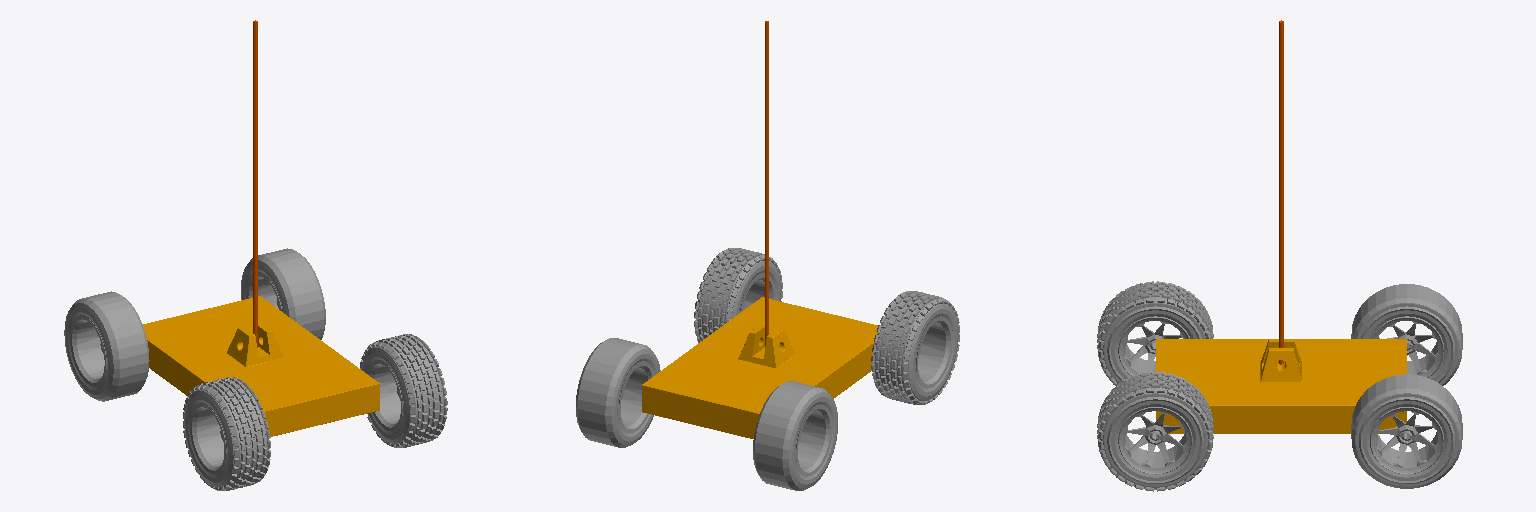
robot.urdf — balancing_rover:
<?xml version="1.0" encoding="UTF-8"?>
<robot name="balancing_rover">


  <!-- =================================================================== -->
  <!--                        MAIN BODY FRAME                              -->
  <!-- =================================================================== -->

  <link name="rover_frame">
    <inertial>
        <mass value="0.3"/>
        <inertia ixx="0.40625" ixy="0" ixz="0" iyy="0.1625" iyz="0" izz="0.55625" />
    </inertial>

    <collision name="rover_frame_collision">
      <geometry>
        <mesh filename="package://balancing_rover_description/meshes/frame_collision.stl"/>
      </geometry>
    </collision>

    <visual name="rover_frame_visual">
      <geometry>
        <mesh filename="package://balancing_rover_description/meshes/frame.dae"/>
      </geometry>
    </visual>
  </link>

  <!-- =================================================================== -->
  <!--                              WHEELS                                 -->
  <!-- =================================================================== -->

  <!-- Front Right Wheel -->

  <link name="wheel_front_right">
    <inertial>
        <mass value="0.1"/>
        <inertia ixx="0.00652746" ixy="0" ixz="0" iyy="0.00652746" iyz="0" izz="0.01083451" />
    </inertial>
    <collision name="wheel_front_right_collision">
      <geometry>
        <mesh filename="package://balancing_rover_description/meshes/wheel_collision.stl"/>
      </geometry>
    </collision>
    <visual name="wheel_front_right_visual">
      <geometry>
        <mesh filename="package://balancing_rover_description/meshes/wheel_slick.dae"/>
      </geometry>
    </visual>
  </link>
  <joint type="continuous" name="wheel_front_right_hinge">
      <origin xyz="0.85 1 0"/>
      <child link="wheel_front_right"/>
      <parent link="rover_frame"/>
      <axis xyz="1 0 0"/>
  </joint>

  <!-- Front Left Wheel -->

  <link name="wheel_front_left">
    <inertial>
        <mass value="0.1"/>
        <inertia ixx="0.00652746" ixy="0" ixz="0" iyy="0.00652746" iyz="0" izz="0.01083451" />
    </inertial>
    <collision name="wheel_front_left_collision">
      <geometry>
        <mesh filename="package://balancing_rover_description/meshes/wheel_collision.stl"/>
      </geometry>
    </collision>
    <visual name="wheel_front_left_visual">
      <geometry>
        <mesh filename="package://balancing_rover_description/meshes/wheel_slick.dae"/>
      </geometry>
    </visual>
  </link>
  <joint type="continuous" name="wheel_front_left_hinge">
    <origin xyz="-0.85 1 0"/>
    <child link="wheel_front_left"/>
    <parent link="rover_frame"/>
    <axis xyz="1 0 0"/>
  </joint>

  <!-- Back Right Wheel -->

  <link name="wheel_back_right">
    <inertial>
        <mass value="0.1"/>
        <inertia ixx="0.00652746" ixy="0" ixz="0" iyy="0.00652746" iyz="0" izz="0.01083451" />
    </inertial>
    <collision name="wheel_back_right_collision">
      <geometry>
        <mesh filename="package://balancing_rover_description/meshes/wheel_collision.stl"/>
      </geometry>
    </collision>
    <visual name="wheel_back_right_visual">
      <geometry>
        <mesh filename="package://balancing_rover_description/meshes/wheel_rough.dae"/>
      </geometry>
    </visual>
  </link>
  <joint type="continuous" name="wheel_back_right_hinge">
    <origin xyz="0.85 -1 0"/>
    <child link="wheel_back_right"/>
    <parent link="rover_frame"/>
    <axis xyz="1 0 0"/>
  </joint>

  <!-- Back Left Wheel -->

  <link name="wheel_back_left">
    <inertial>
        <mass value="0.1"/>
        <inertia ixx="0.00652746" ixy="0" ixz="0" iyy="0.00652746" iyz="0" izz="0.01083451" />
    </inertial>
    <collision name="wheel_back_left_collision">
      <geometry>
        <mesh filename="package://balancing_rover_description/meshes/wheel_collision.stl"/>
      </geometry>
    </collision>
    <visual name="wheel_back_left_visual">
      <geometry>
        <mesh filename="package://balancing_rover_description/meshes/wheel_rough.dae"/>
      </geometry>
    </visual>
  </link>
  <joint type="continuous" name="wheel_back_left_hinge">
    <origin xyz="-0.85 -1 0"/>
    <child link="wheel_back_left"/>
    <parent link="rover_frame"/>
    <axis xyz="1 0 0"/>
  </joint>

  <!-- =================================================================== -->
  <!--                              PENDULUM                               -->
  <!-- =================================================================== -->
  <link name="pendulum_stem">
    <inertial>
        <origin xyz="0 0 1.5"/>
        <mass value="0.05"/>
        <inertia ixx="0.037505" ixy="0" ixz="0" iyy="0.037505" iyz="0" izz="0.00001" />
    </inertial>
    <collision name="pendulum_stem_collision">
      <origin xyz="0 0 1.5"/>
      <geometry>
        <cylinder radius="0.02" length="3"/>
      </geometry>
    </collision>
    <visual name="pendulum_stem_visual">
      <origin xyz="0 0 1.5"/>
      <geometry>
        <cylinder radius="0.02" length="3"/>
      </geometry>
    </visual>
  </link>
  <joint type="revolute" name="pendulum_stem_hinge">
    <origin xyz="0 0 0.2"/>
    <child link="pendulum_stem"/>
    <parent link="rover_frame"/>
    <axis xyz="1 0 0"/>
    <limit lower="-1.57" upper="1.57" effort="300" velocity="100"/>
  </joint>
</robot>

--- Render facts (derived) ---
3 views of the same robot in one strip: view 1: azimuth 30°, elevation 25°; view 2: azimuth 150°, elevation 25°; view 3: azimuth 270°, elevation 25° (orthographic).
Robot: balancing_rover — 6 links, 5 joints (1 revolute, 4 continuous); root link rover_frame; default pose: every joint at zero.
Visible links, largest first — view 1: rover_frame, wheel_back_left, wheel_front_left, wheel_back_right, wheel_front_right, pendulum_stem; view 2: rover_frame, wheel_back_left, wheel_front_left, wheel_front_right, wheel_back_right, pendulum_stem; view 3: rover_frame, wheel_back_right, wheel_front_right, wheel_back_left, wheel_front_left, pendulum_stem.
Boxes of the visible links, x1,y1,x2,y2 form: rover_frame: (143,296,379,436); wheel_back_left: (183,377,270,490); wheel_front_left: (64,291,149,401); wheel_back_right: (360,334,447,447); wheel_front_right: (241,248,325,339); pendulum_stem: (253,20,257,347); rover_frame: (642,297,877,438); wheel_back_left: (871,291,959,404); wheel_front_left: (753,381,837,490); wheel_front_right: (576,338,660,447); wheel_back_right: (694,248,782,342); pendulum_stem: (765,21,768,345); rover_frame: (1156,339,1406,433); wheel_back_right: (1097,372,1213,491); wheel_front_right: (1351,374,1462,488); wheel_back_left: (1097,281,1213,385); wheel_front_left: (1351,284,1462,385); pendulum_stem: (1279,20,1283,364).
Bounding box of the posed robot: 2.07 × 2.9 × 3.66 m (x, y, z).
Meshes: 3 distinct files referenced, 5 mesh visuals loaded (3 Collada DAE).